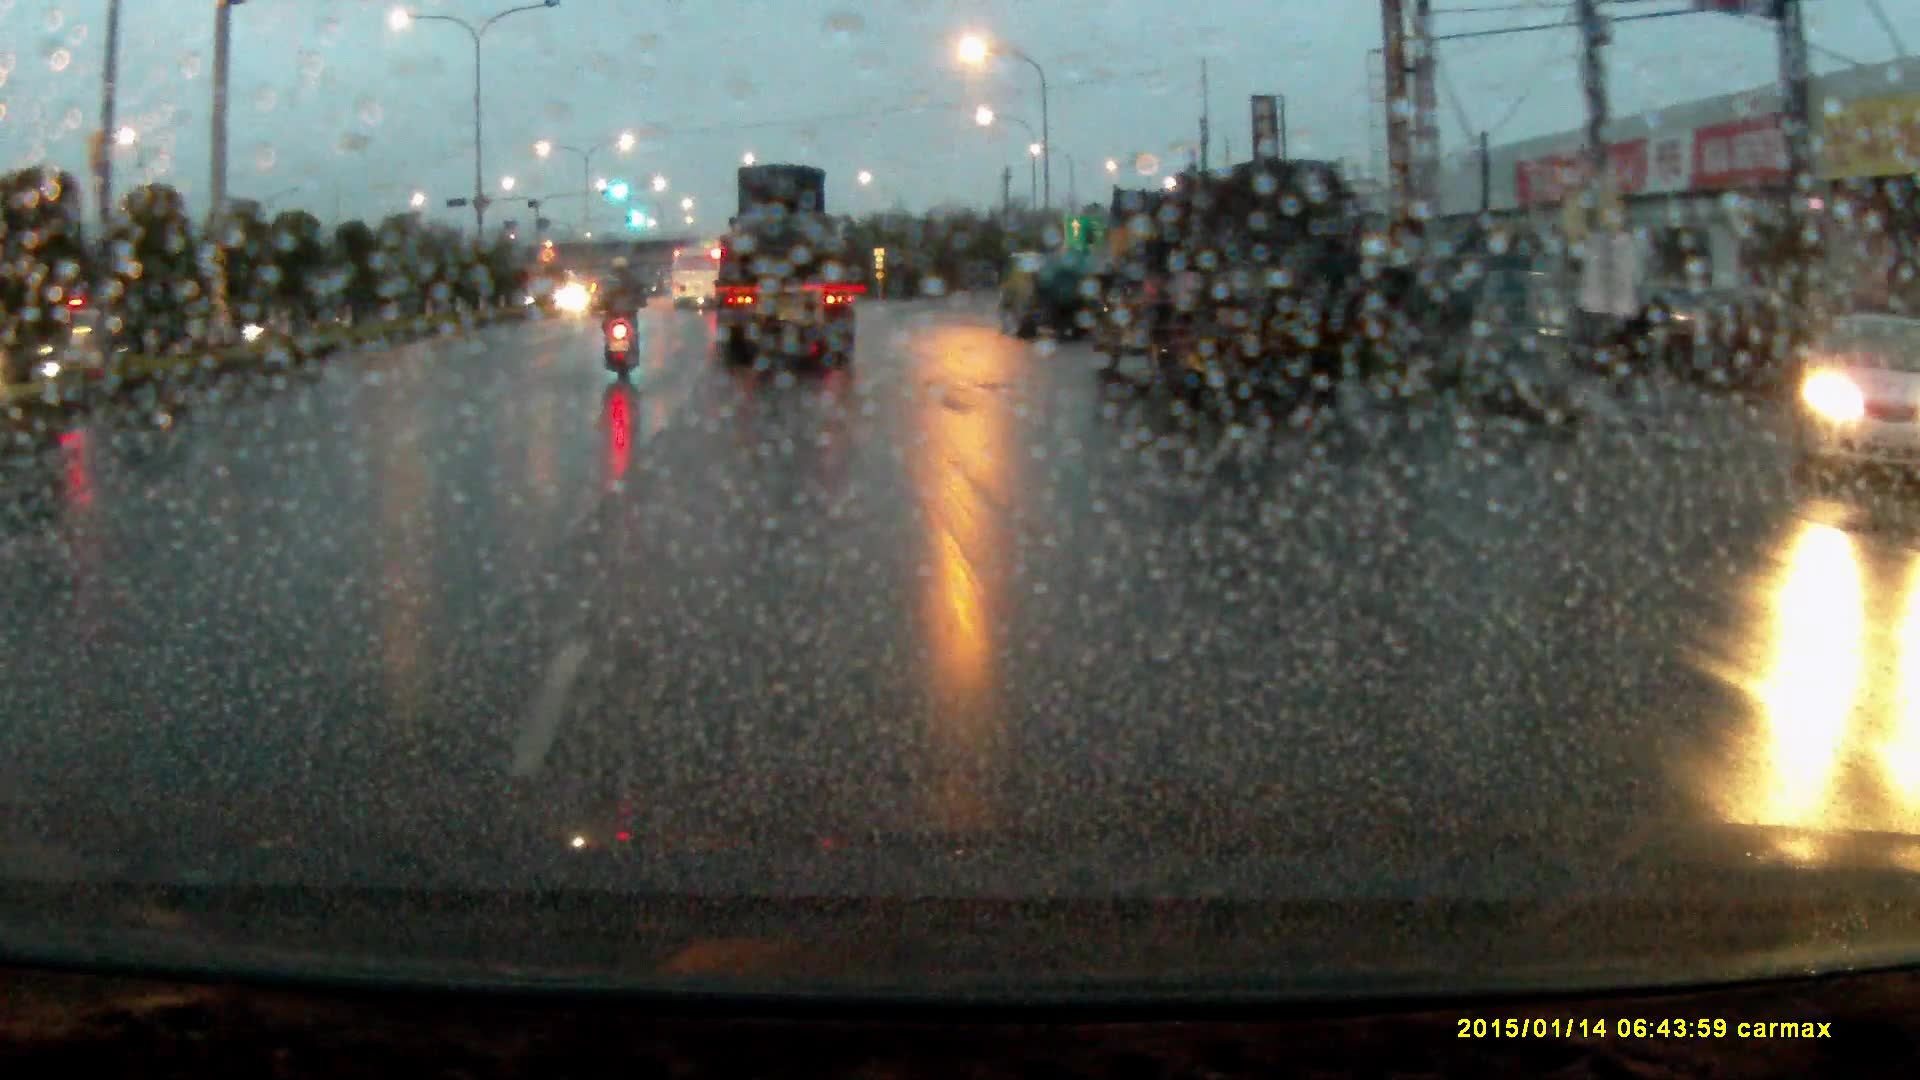rider: (597, 265, 651, 387)
vehicle: (1086, 163, 1371, 434), (713, 167, 862, 371), (1793, 313, 1920, 488), (1000, 255, 1097, 348), (673, 253, 721, 318), (590, 282, 636, 325)
